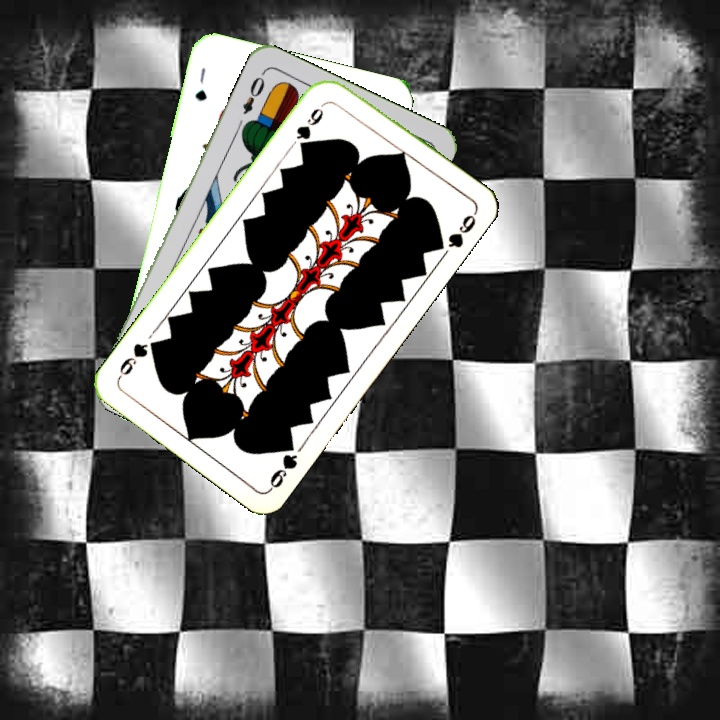EO: (238, 72, 268, 117)
G9: (292, 98, 329, 152), (265, 436, 300, 493)
GU: (190, 63, 210, 104)
